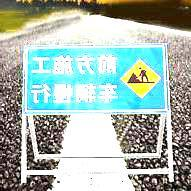sign: (25, 46, 166, 110)
